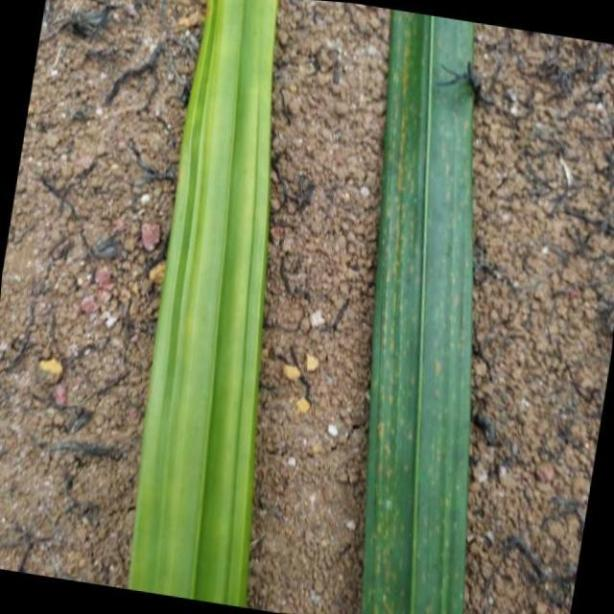nitrogen: (131, 0, 278, 612), (371, 0, 480, 614)
